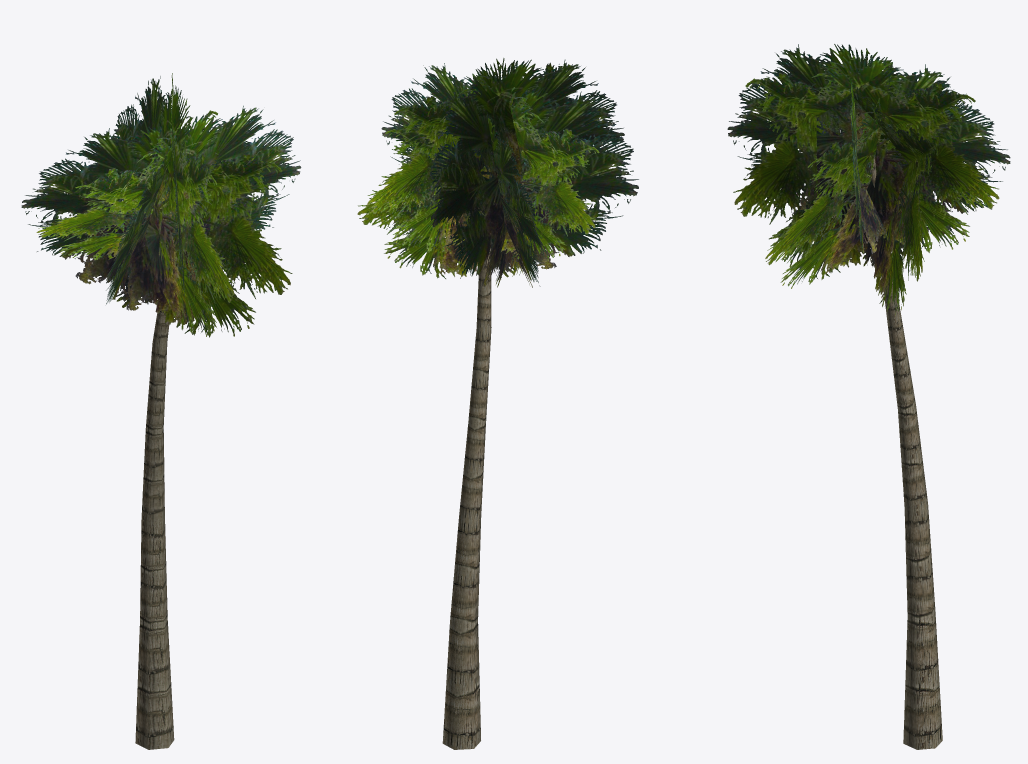
Rendered from obj__palmt5.obj.
The picture shows the model from 3 angles, left to right: view 1: azimuth 30°, elevation 25°; view 2: azimuth 150°, elevation 25°; view 3: azimuth 270°, elevation 25°; orthographic projection. The views are drawn at different scales.
Visible parts, largest first — view 1: palmt5.tga; view 2: palmt5.tga; view 3: palmt5.tga.
Part boxes in pixels (x1,y1,x2,y2): palmt5.tga: (21,73,301,749); palmt5.tga: (357,58,638,749); palmt5.tga: (727,44,1010,749).
Size of the model in its own units: 169 by 407 by 163.
1 material, 1 textured.
